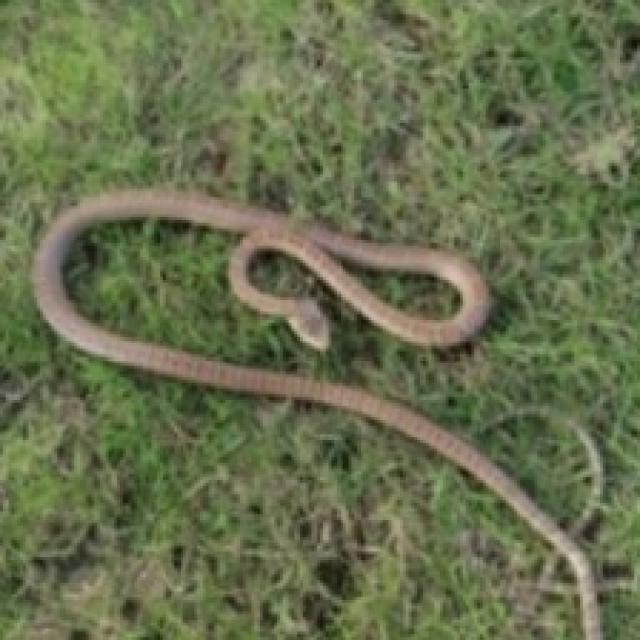paradise tree snake: (31, 189, 600, 637)
